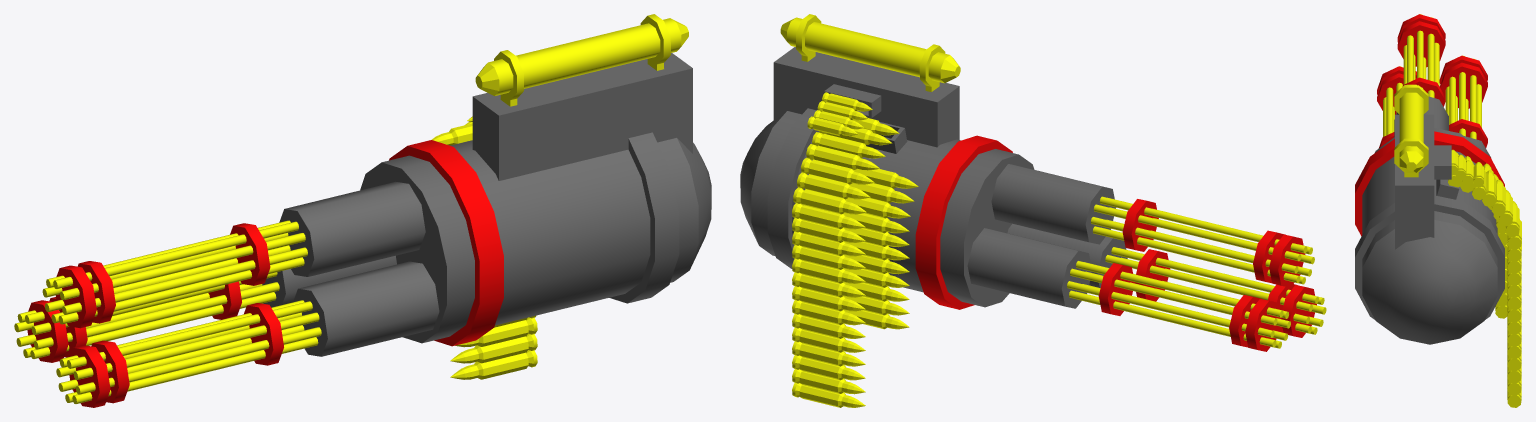
File: Waffen_6.FBX
The picture shows the model from 3 angles, left to right: view 1: azimuth 30°, elevation 25°; view 2: azimuth 150°, elevation 25°; view 3: azimuth 270°, elevation 25°; orthographic projection. The views are drawn at different scales.
Visible parts, largest first — view 1: Cylinder074, Object009; view 2: Cylinder074, Object009; view 3: Cylinder074, Object009.
Boxes of the visible parts, x1,y1,x2,y2 form: Cylinder074: (360, 14, 711, 379); Object009: (14, 181, 439, 407); Cylinder074: (740, 14, 1034, 407); Object009: (967, 164, 1326, 351); Cylinder074: (1355, 84, 1521, 407); Object009: (1377, 14, 1490, 157).
Size of the model in its own units: 117 by 65.95 by 34.64.
1 material, 1 textured.
